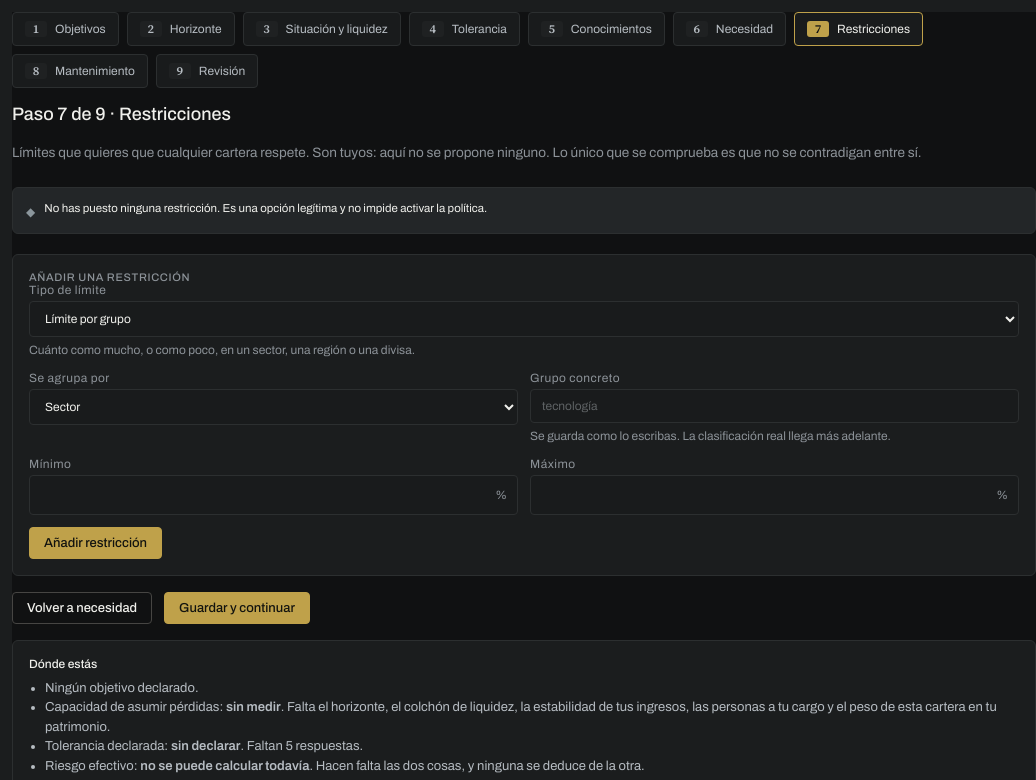
IpsWizard · restricciones › no añade nada si falta el grupo o el rango
Click the button "Añadir restricción" at (96, 543), box top-left (29, 527), bottom-right (162, 559)
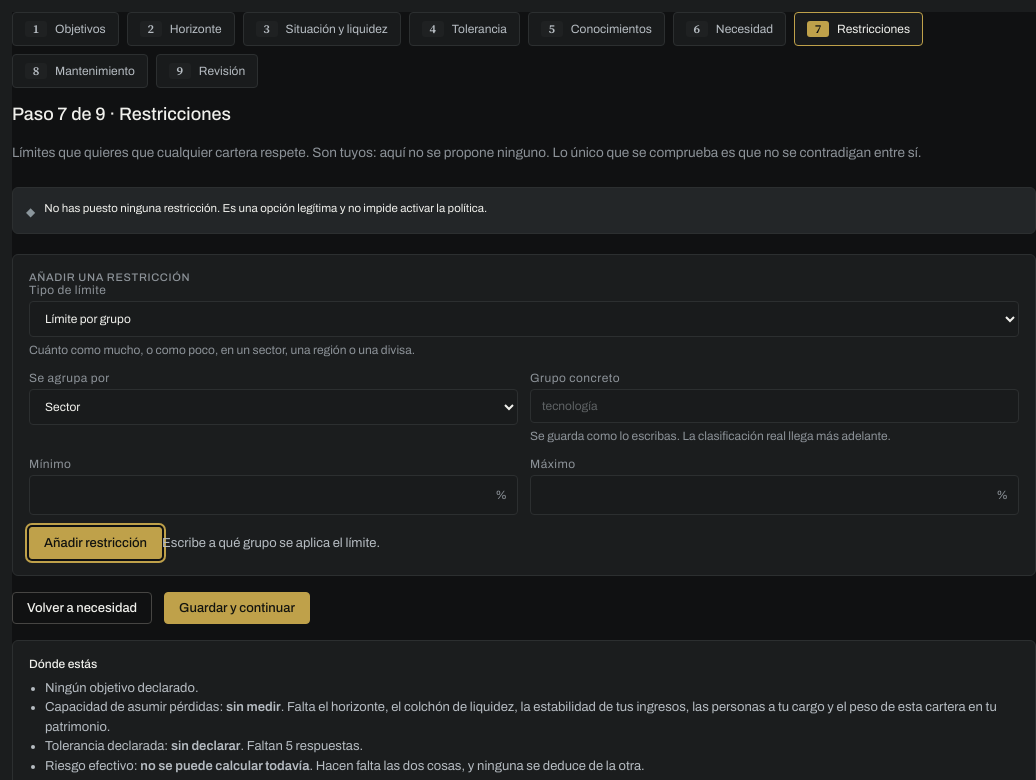
Now the message "Escribe a qué grupo se aplica el límite." is shown, box top-left (162, 536), bottom-right (380, 550)
Type "banca" into the field labelled "Grupo concreto" at (774, 406), box top-left (530, 389), bottom-right (1019, 423)
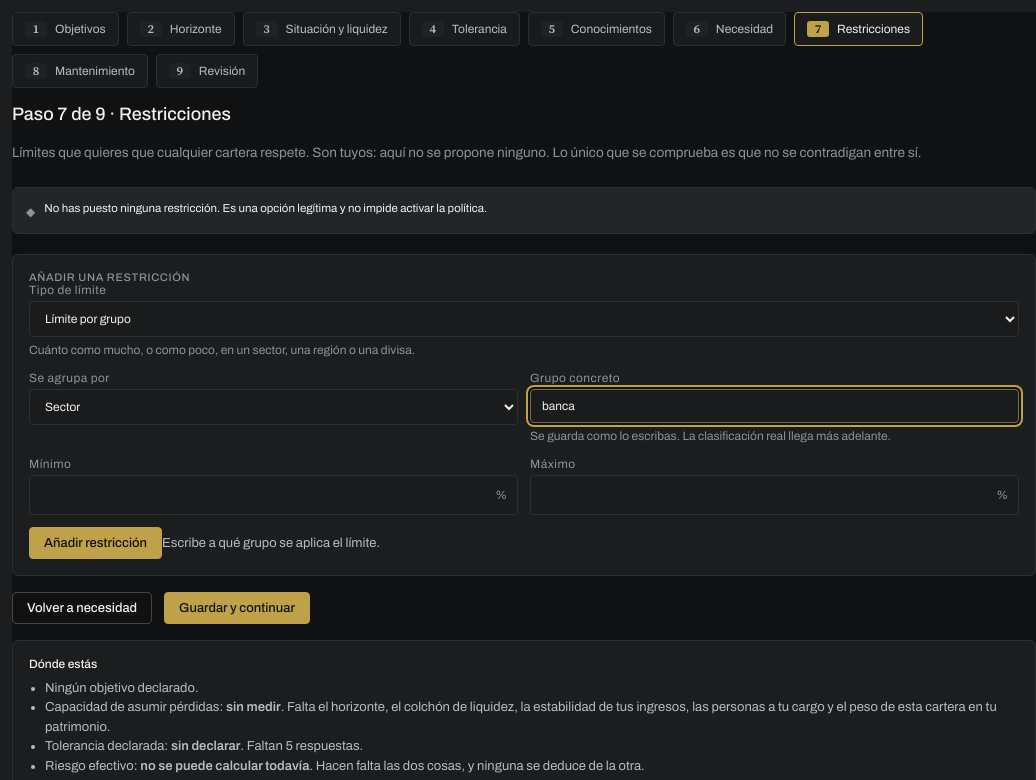
Click the button "Añadir restricción" at (96, 543), box top-left (29, 527), bottom-right (162, 559)
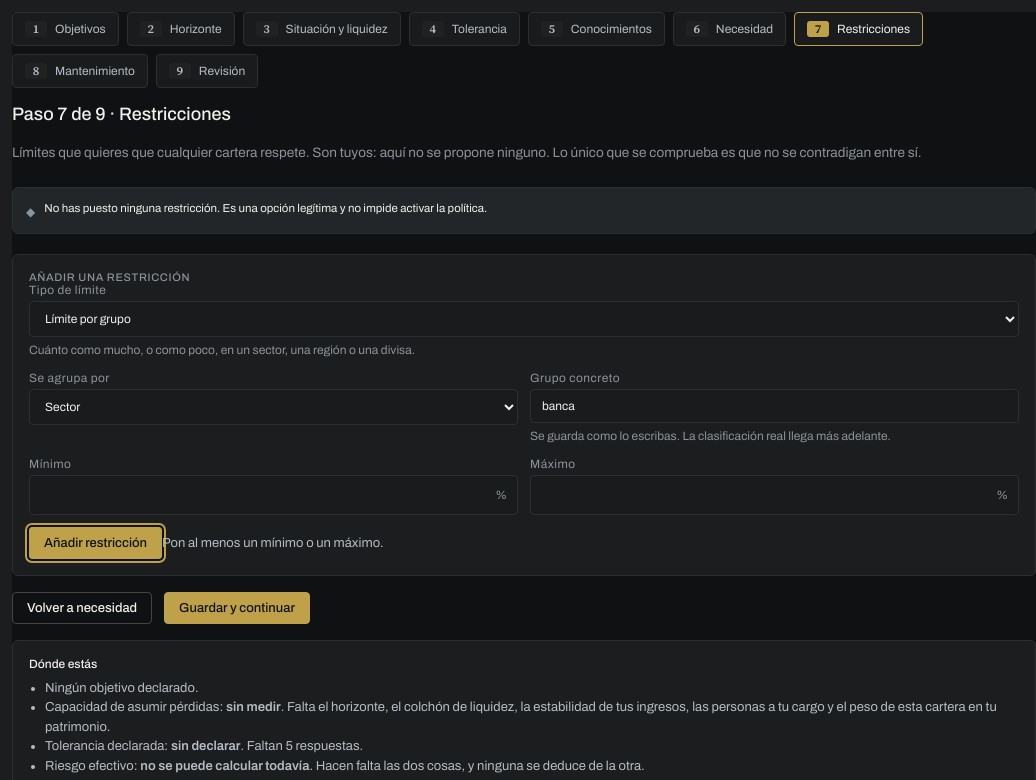
Now the text "Pon al menos un mínimo o un máximo." is shown, box top-left (162, 536), bottom-right (384, 550)
